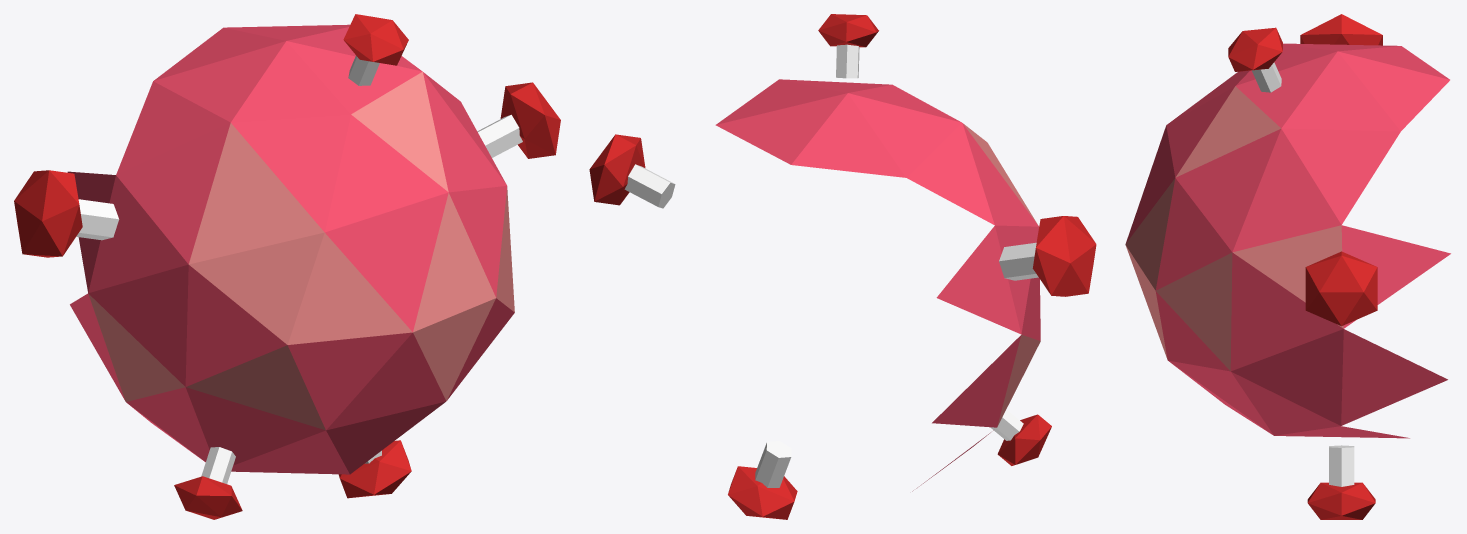
Rendered from mushroom.glb.
The picture shows the model from 3 angles, left to right: view 1: azimuth 30°, elevation 25°; view 2: azimuth 150°, elevation 25°; view 3: azimuth 270°, elevation 25°; orthographic projection. The views are drawn at different scales.
Parts seen in each view (by area): view 1: Shroom, Cap2, Cap0, Cap4, Cap1, Cap3, Stem2, Stem0, Stem3, Stem1; view 2: Shroom, Cap2, Cap0, Cap4, Cap3, Cap1, Stem0, Stem4, Stem2, Stem1; view 3: Shroom, Cap0, Cap4, Cap1, Cap2, Stem4, Stem1.
Boxes of the visible parts, left/top/right/bottom form: Shroom: left=67, top=24, right=514, bottom=474; Cap2: left=14, top=170, right=82, bottom=257; Cap0: left=500, top=82, right=560, bottom=158; Cap4: left=338, top=440, right=411, bottom=498; Cap1: left=343, top=14, right=408, bottom=65; Cap3: left=174, top=476, right=242, bottom=519; Stem2: left=76, top=199, right=119, bottom=240; Stem0: left=477, top=114, right=522, bottom=157; Stem3: left=201, top=447, right=235, bottom=483; Stem1: left=348, top=55, right=379, bottom=85; Shroom: left=715, top=79, right=1040, bottom=491; Cap2: left=1032, top=216, right=1096, bottom=296; Cap0: left=589, top=134, right=645, bottom=205; Cap4: left=728, top=466, right=797, bottom=519; Cap3: left=997, top=414, right=1051, bottom=465; Cap1: left=818, top=14, right=878, bottom=47; Stem0: left=624, top=164, right=675, bottom=208; Stem4: left=755, top=441, right=791, bottom=487; Stem2: left=999, top=242, right=1038, bottom=280; Stem1: left=836, top=44, right=859, bottom=78; Shroom: left=1125, top=43, right=1450, bottom=438; Cap0: left=1305, top=251, right=1377, bottom=326; Cap4: left=1307, top=482, right=1375, bottom=519; Cap1: left=1228, top=27, right=1282, bottom=71; Cap2: left=1300, top=14, right=1382, bottom=45; Stem4: left=1329, top=445, right=1354, bottom=486; Stem1: left=1252, top=62, right=1281, bottom=92.
Size of the model in its own units: 3.94 by 3.69 by 2.33.
